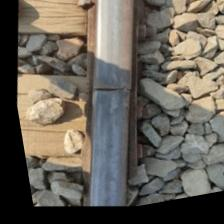person: (58, 42, 158, 143)
